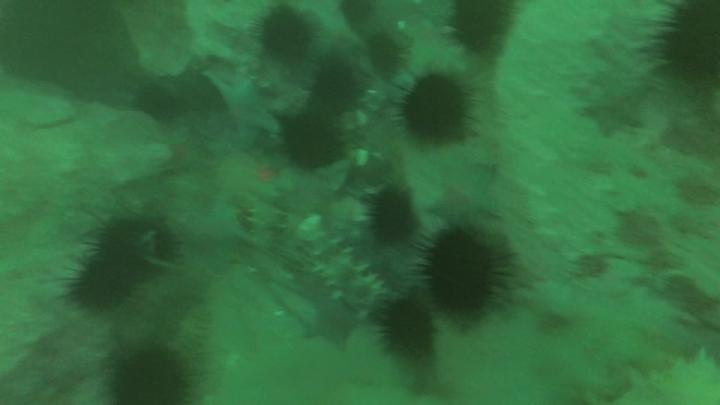echinus: (426, 237, 495, 317), (405, 75, 467, 145), (96, 220, 178, 271), (668, 2, 720, 80), (280, 116, 341, 173), (116, 357, 184, 405), (387, 302, 436, 360), (314, 58, 365, 112), (264, 7, 312, 61), (69, 269, 126, 311), (455, 1, 505, 47), (370, 192, 413, 242), (136, 85, 183, 125), (366, 34, 407, 77)
holothurian: (313, 236, 387, 314), (248, 200, 286, 247)
scallop: (299, 217, 327, 241), (356, 149, 371, 171)
starfish: (582, 74, 647, 136), (435, 165, 503, 224), (303, 296, 354, 354)
